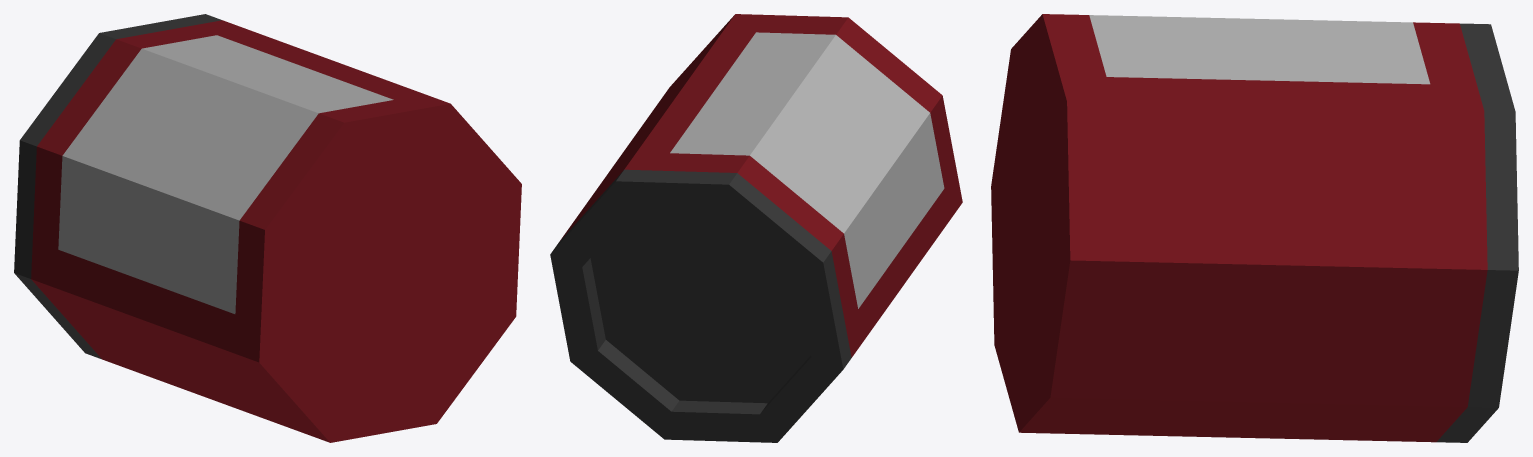
File: BaldeCaido.fbx
3 renders of one model, left to right at view 1: azimuth 30°, elevation 25°; view 2: azimuth 150°, elevation 25°; view 3: azimuth 270°, elevation 25°, orthographic. The views are drawn at different scales.
Visible parts, largest first — view 1: Cylinder.077; view 2: Cylinder.077; view 3: Cylinder.077.
Boxes of the visible parts, x1,y1,x2,y2 form: Cylinder.077: (14,14,521,442); Cylinder.077: (550,14,962,442); Cylinder.077: (991,14,1518,442).
Size of the model in its own units: 33.62 by 31.96 by 36.98.
